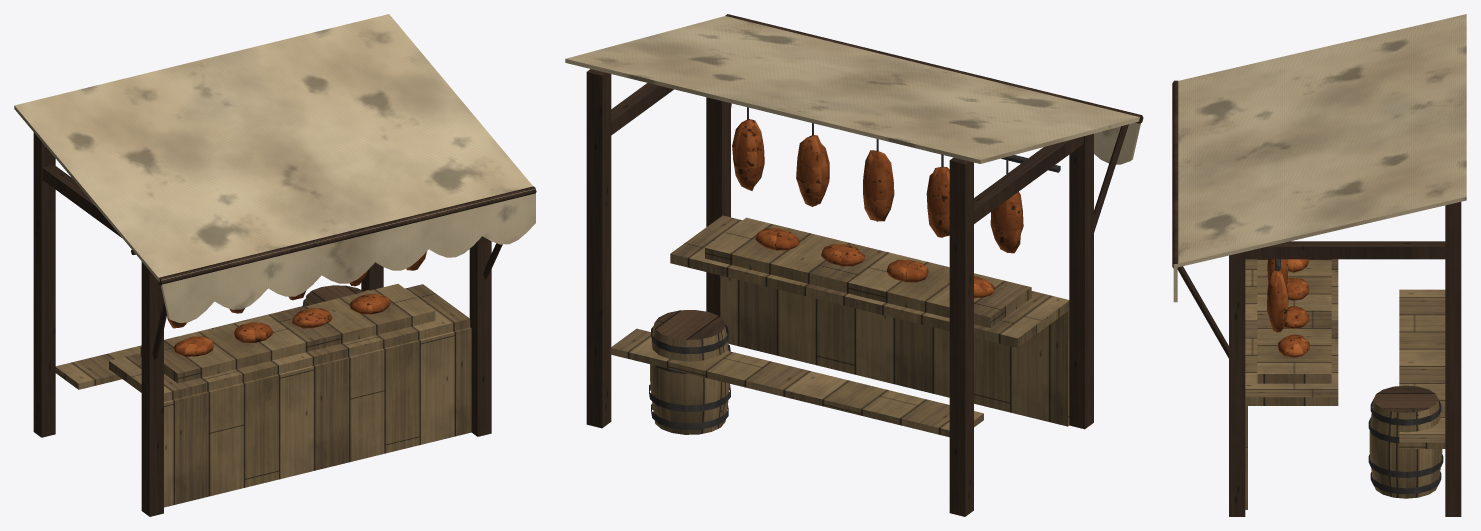
File: market_stall_meat.gltf
The picture shows the model from 3 angles, left to right: view 1: azimuth 30°, elevation 25°; view 2: azimuth 150°, elevation 25°; view 3: azimuth 270°, elevation 25°; orthographic projection. The views are drawn at different scales.
Visible parts, largest first — view 1: INT_stall_meat; view 2: INT_stall_meat; view 3: INT_stall_meat.
Part boxes in pixels (left/top/right/bottom): INT_stall_meat: left=14, top=14, right=536, bottom=516; INT_stall_meat: left=565, top=14, right=1143, bottom=516; INT_stall_meat: left=1172, top=14, right=1466, bottom=516.
Size of what is drawn, in the model's own units: 3.2 by 2.68 by 2.18.
6 materials, 6 textured.
